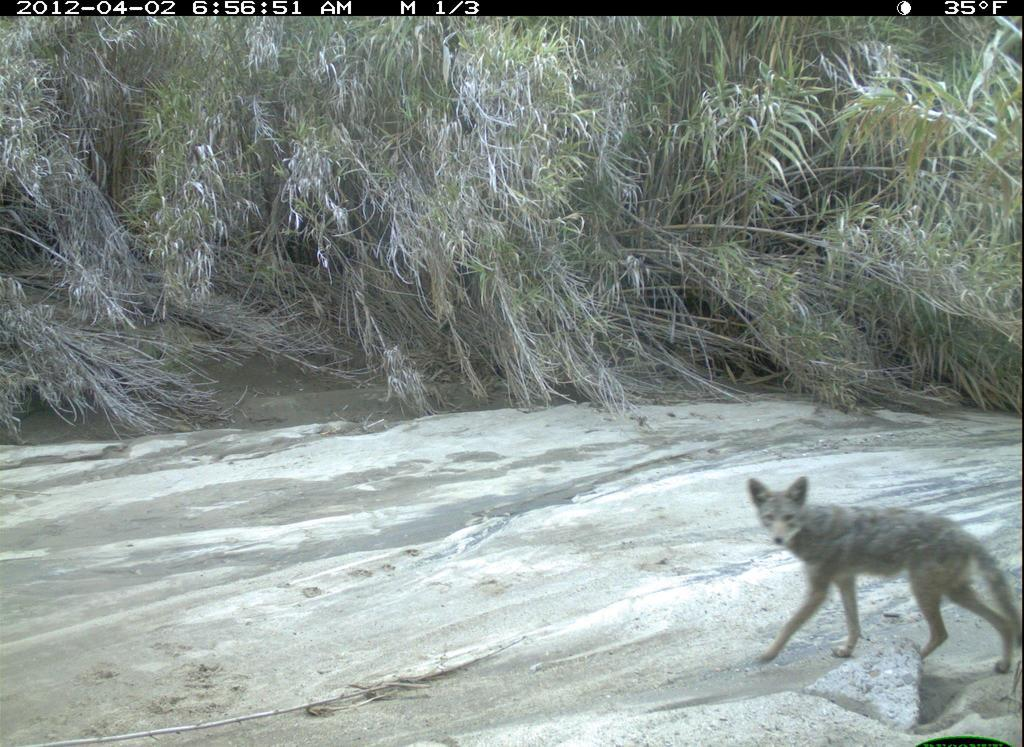coyote: (724, 451, 1018, 701)
